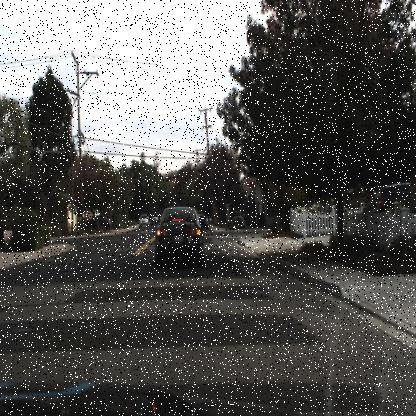car: (149, 202, 209, 273), (367, 179, 412, 216), (83, 207, 114, 233), (134, 206, 149, 232), (196, 210, 210, 231), (149, 208, 159, 226)
